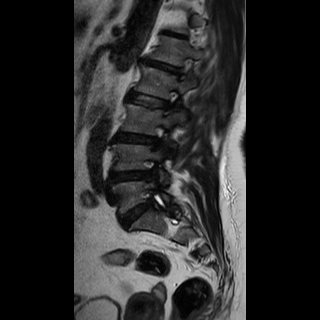LFS0: (172, 51, 194, 84)
